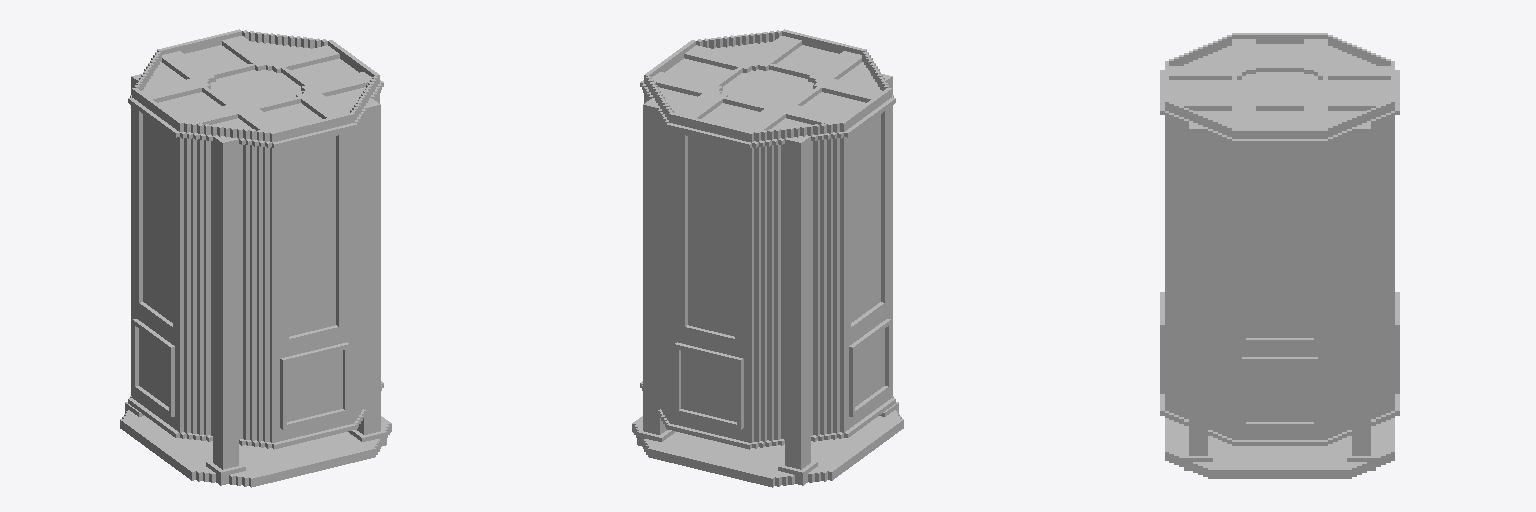
The model's file is hyperenergeticFurnace.obj.
3 views of the same model, side by side, from view 1: azimuth 30°, elevation 25°; view 2: azimuth 150°, elevation 25°; view 3: azimuth 270°, elevation 25° (orthographic).
Parts seen in each view (by area): view 1: Blast_Furnace; view 2: Blast_Furnace; view 3: Blast_Furnace.
Part boxes in pixels (x1,y1,x2,y2): Blast_Furnace: (120, 29, 391, 487); Blast_Furnace: (632, 29, 903, 487); Blast_Furnace: (1160, 33, 1399, 478).
Size of the model in its own units: 50 by 80 by 50.